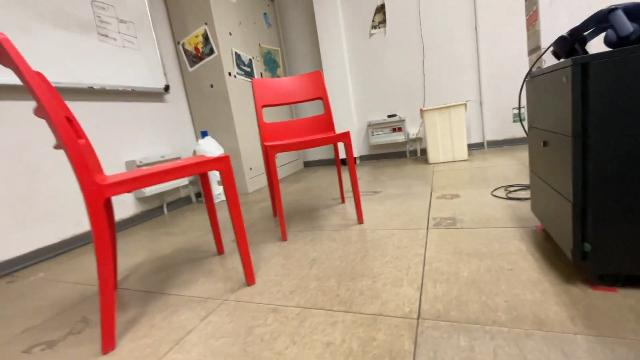Chair: (0, 28, 262, 358), (248, 67, 368, 245)
